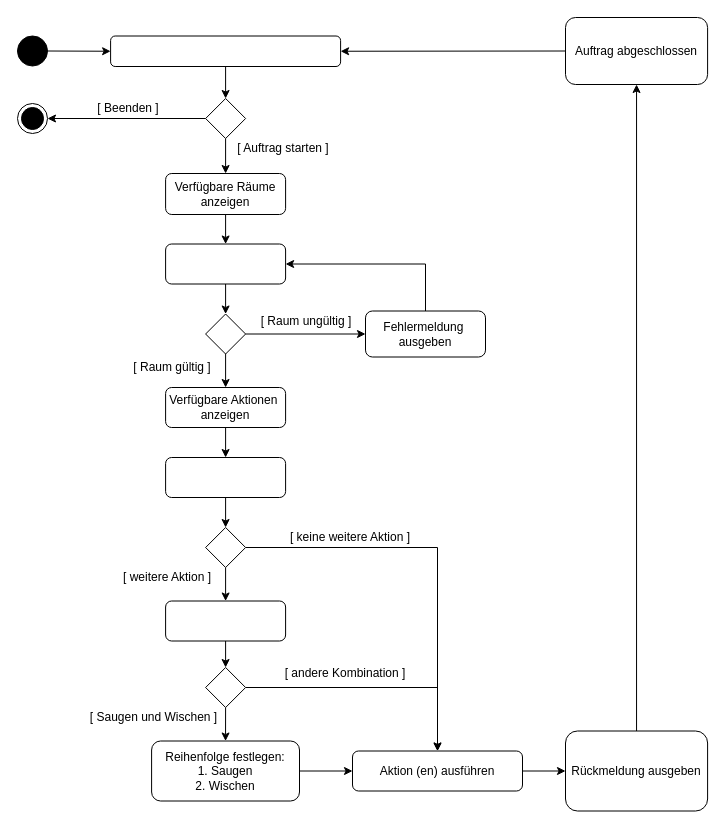
The diagram is 726 pixels wide and 829 high, and some of its shapes have lost their labels. Here are the shapes that lost their labels. From the top down, the box of each, then its label:
(110, 35, 341, 66): Hauptmenu anzeigen
(165, 243, 286, 284): Raum auswählen
(165, 456, 286, 498): Aktion auswählen
(165, 600, 286, 641): Zweite Aktion auswählen
